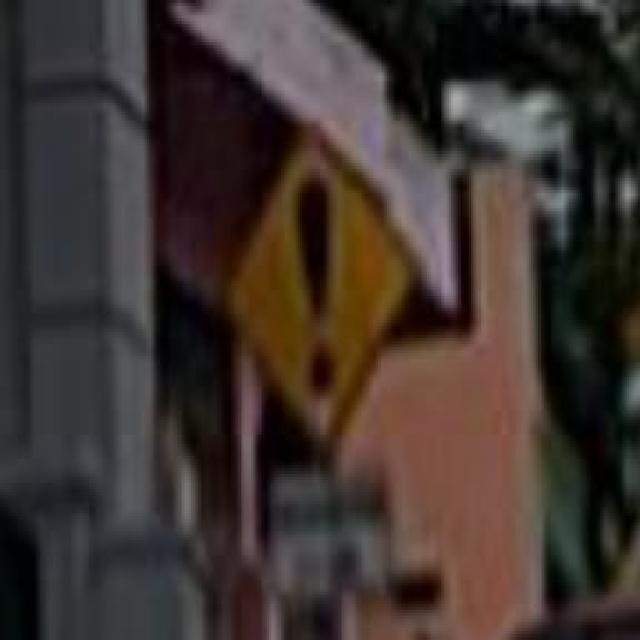traffic sign: (214, 142, 416, 450)
